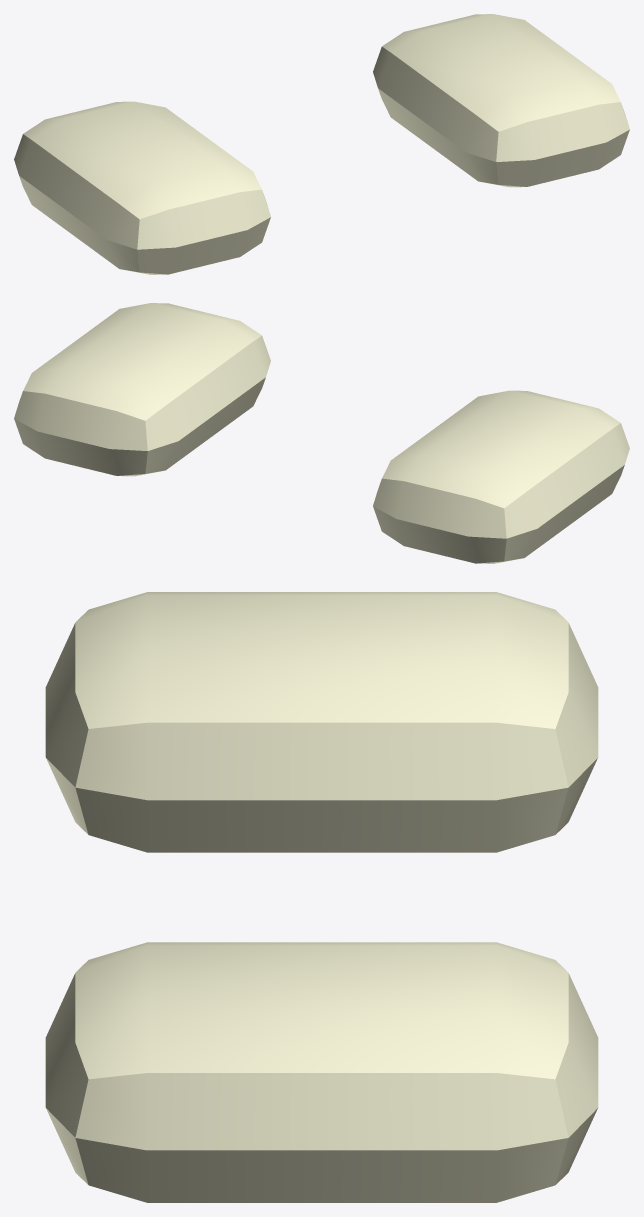
File: tooth_buck.glb
The picture shows the model from 3 angles, top to bottom: view 1: azimuth 30°, elevation 25°; view 2: azimuth 150°, elevation 25°; view 3: azimuth 270°, elevation 25°; orthographic projection. The views are drawn at different scales.
Parts seen in each view (by area): view 1: tooth_buck; view 2: tooth_buck; view 3: tooth_buck.
Boxes of the visible parts, x1=… form: tooth_buck: x1=14, y1=14, x2=629, y2=274; tooth_buck: x1=14, y1=303, x2=629, y2=563; tooth_buck: x1=45, y1=592, x2=598, y2=1202.
Bounding box in the file's own units: 0.13 × 0.022 × 0.06.
